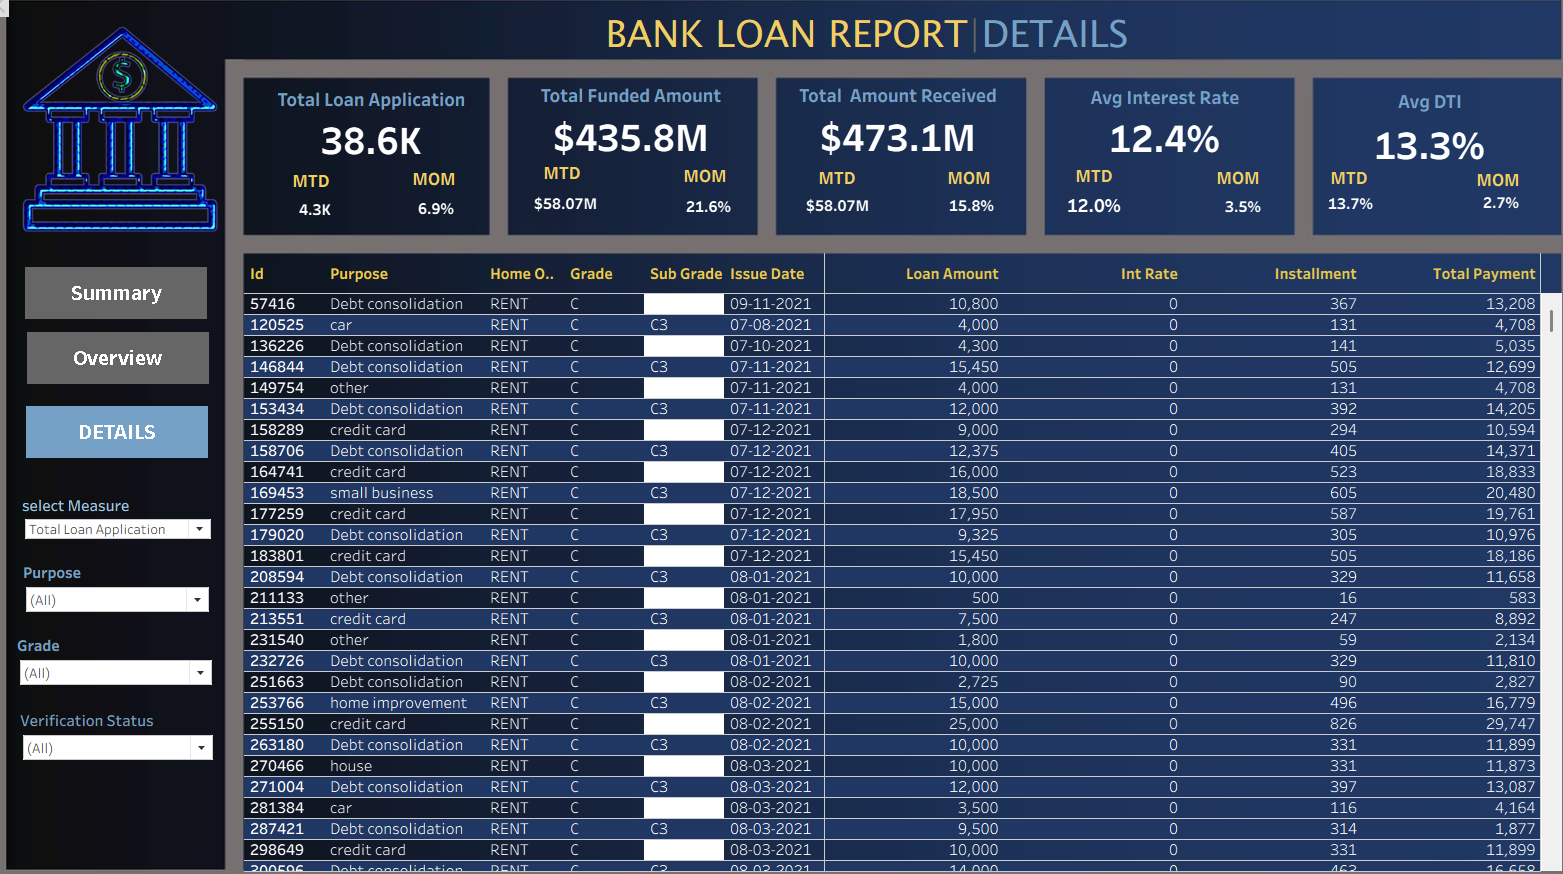

This screenshot's page, from the dashboard's own definition file:
{"tool":"tableau","page":{"name":"DETAILS","canvas":[1600,900],"ordinal":0},"visuals":[{"type":"dashboard-object","box":[0,8,24,24]},{"type":"image","param":"D:/photos/Tableau Background 3.jpg","box":[8,8,1584,884]},{"type":"text","box":[617,19,575,61]},{"type":"worksheet","title":"Total Funded Amount","mark":"Automatic","box":[523,93,246,77]},{"type":"worksheet","title":"Total  Amount Received","mark":"Automatic","box":[790,93,246,77]},{"type":"worksheet","title":"MTD Avg INT Rate","mark":"Automatic","box":[1055,95,250,75]},{"type":"worksheet","title":"Total Loan Application","mark":"Automatic","box":[265,97,243,75]},{"type":"worksheet","title":"Avg DTI","mark":"Automatic","box":[1325,99,240,81]},{"type":"text","box":[527,172,100,30]},{"type":"text","box":[670,175,100,30]},{"type":"text","box":[1059,175,100,30]},{"type":"text","box":[398,177,102,32]},{"type":"text","box":[802,177,100,30]},{"type":"text","box":[934,177,100,30]},{"type":"text","box":[1203,177,100,30]},{"type":"text","box":[1314,177,100,30]},{"type":"text","box":[1463,179,100,30]},{"type":"text","box":[276,180,100,30]},{"type":"worksheet","title":"MTD Total Funded Amount","mark":"Automatic","box":[538,201,87,35]},{"type":"worksheet","title":"MOM avg DTI","mark":"Automatic","box":[1475,203,83,30]},{"type":"worksheet","title":"MOM  Total Amount Recevied","mark":"Automatic","box":[948,204,78,34]},{"type":"worksheet","title":"MTD Avg DTI","mark":"Automatic","box":[1328,204,75,30]},{"type":"worksheet","title":"MTD Total Amount Recevied","mark":"Automatic","box":[784,205,139,31]},{"type":"worksheet","title":"Avg Interest Rate","mark":"Automatic","box":[1062,205,94,31]},{"type":"worksheet","title":"MOM Loan Applications","mark":"Automatic","box":[407,206,89,36]},{"type":"worksheet","title":"MTD Total Loan Application","mark":"Automatic","box":[267,207,126,36]},{"type":"worksheet","title":"MOM AVG int Rate","mark":"Automatic","box":[1217,207,83,29]},{"type":"worksheet","title":"MOM Total Funded Amount","mark":"Automatic","box":[685,208,78,28]},{"type":"worksheet","title":"detailstab","mark":"Automatic","rows":["id","purpose","home_ownership","grade","sub_grade","issue_date"],"box":[259,266,1319,619]},{"type":"parameter","param":"[Parameters].[Parameter 1]","box":[35,531,192,47]},{"type":"filter","title":"Avg DTI","param":"[federated.1hbrnce1x73st8143nhxq0bro3fb].[none:purpose:nk]","box":[37,608,189,54]},{"type":"filter","title":"Avg DTI","param":"[federated.1hbrnce1x73st8143nhxq0bro3fb].[none:grade:nk]","box":[35,697,198,56]},{"type":"filter","title":"Avg DTI","param":"[federated.1hbrnce1x73st8143nhxq0bro3fb].[none:verification_status:nk]","box":[33,785,196,63]}]}

Visuals, with their boxes in screenshot pixels (x1, y1, x2, y2), scaled from the page's 1600x900 canvas onto the 1563x874 screenshot:
dashboard-object: pyautogui.locateOnScreen(0, 8, 23, 31)
image: pyautogui.locateOnScreen(8, 8, 1555, 866)
text: pyautogui.locateOnScreen(603, 18, 1164, 78)
"Total Funded Amount" worksheet: pyautogui.locateOnScreen(511, 90, 751, 165)
"Total  Amount Received" worksheet: pyautogui.locateOnScreen(772, 90, 1012, 165)
"MTD Avg INT Rate" worksheet: pyautogui.locateOnScreen(1031, 92, 1275, 165)
"Total Loan Application" worksheet: pyautogui.locateOnScreen(259, 94, 496, 167)
"Avg DTI" worksheet: pyautogui.locateOnScreen(1294, 96, 1529, 175)
text: pyautogui.locateOnScreen(515, 167, 613, 196)
text: pyautogui.locateOnScreen(655, 170, 752, 199)
text: pyautogui.locateOnScreen(1035, 170, 1132, 199)
text: pyautogui.locateOnScreen(389, 172, 488, 203)
text: pyautogui.locateOnScreen(783, 172, 881, 201)
text: pyautogui.locateOnScreen(912, 172, 1010, 201)
text: pyautogui.locateOnScreen(1175, 172, 1273, 201)
text: pyautogui.locateOnScreen(1284, 172, 1381, 201)
text: pyautogui.locateOnScreen(1429, 174, 1527, 203)
text: pyautogui.locateOnScreen(270, 175, 367, 204)
"MTD Total Funded Amount" worksheet: pyautogui.locateOnScreen(526, 195, 611, 229)
"MOM avg DTI" worksheet: pyautogui.locateOnScreen(1441, 197, 1522, 226)
"MOM  Total Amount Recevied" worksheet: pyautogui.locateOnScreen(926, 198, 1002, 231)
"MTD Avg DTI" worksheet: pyautogui.locateOnScreen(1297, 198, 1371, 227)
"MTD Total Amount Recevied" worksheet: pyautogui.locateOnScreen(766, 199, 902, 229)
"Avg Interest Rate" worksheet: pyautogui.locateOnScreen(1037, 199, 1129, 229)
"MOM Loan Applications" worksheet: pyautogui.locateOnScreen(398, 200, 485, 235)
"MTD Total Loan Application" worksheet: pyautogui.locateOnScreen(261, 201, 384, 236)
"MOM AVG int Rate" worksheet: pyautogui.locateOnScreen(1189, 201, 1270, 229)
"MOM Total Funded Amount" worksheet: pyautogui.locateOnScreen(669, 202, 745, 229)
"detailstab" worksheet: pyautogui.locateOnScreen(253, 258, 1542, 859)
parameter: pyautogui.locateOnScreen(34, 516, 222, 561)
"Avg DTI" filter: pyautogui.locateOnScreen(36, 590, 221, 643)
"Avg DTI" filter: pyautogui.locateOnScreen(34, 677, 228, 731)
"Avg DTI" filter: pyautogui.locateOnScreen(32, 762, 224, 824)
